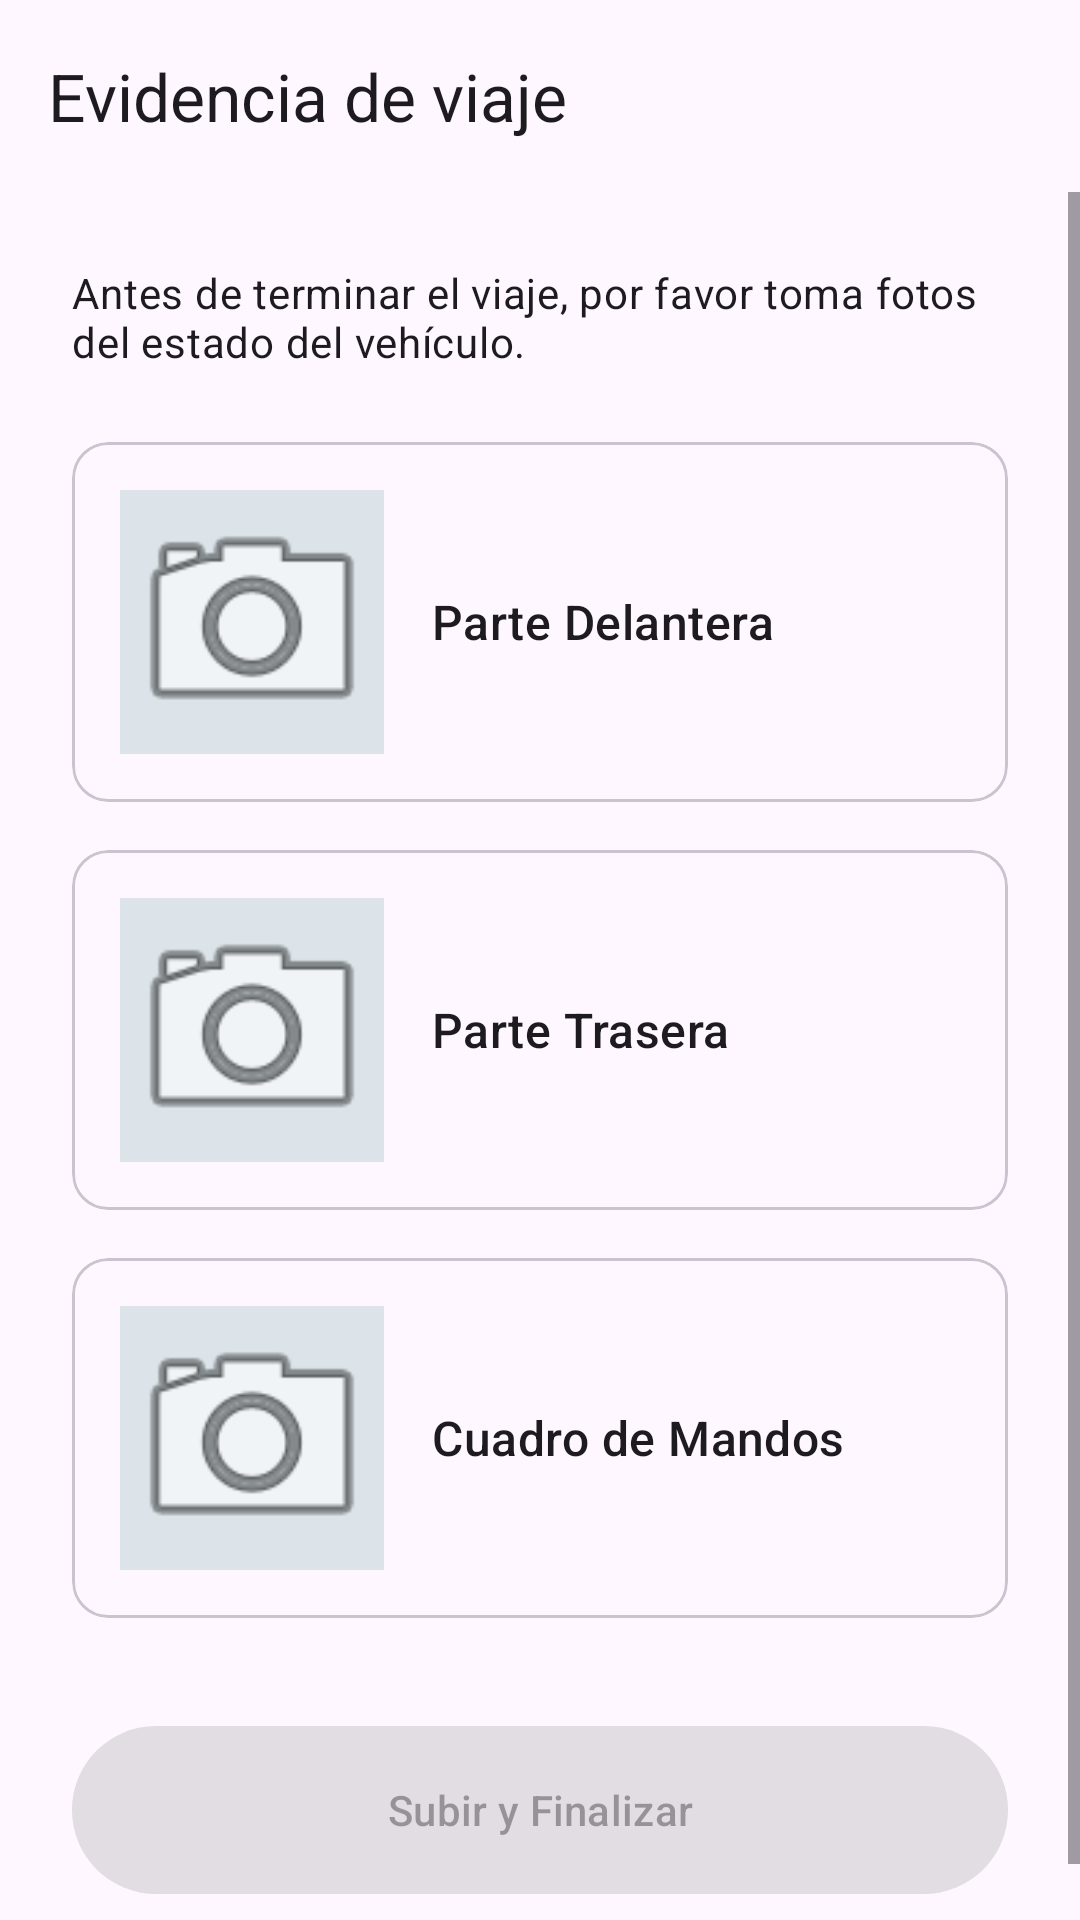

Screen size 1080px×1920px. Icon name, then its center in pixels as [x,y]:
camera: [252,622], [252,1030], [252,1438]
